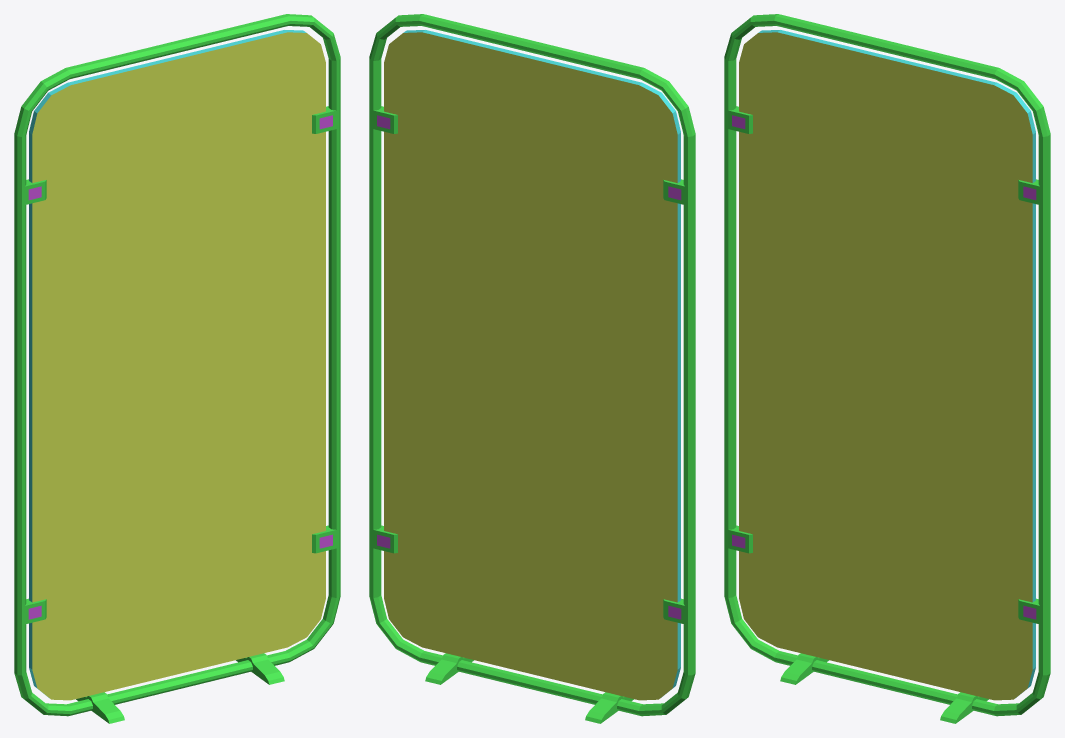
Rendered from Partition_Wall_02_A.fbx.
The picture shows the model from 3 angles, left to right: view 1: azimuth 30°, elevation 25°; view 2: azimuth 150°, elevation 25°; view 3: azimuth 330°, elevation 25°; orthographic projection.
Parts seen in each view (by area): view 1: Partition_Wall_02_A; view 2: Partition_Wall_02_A; view 3: Partition_Wall_02_A.
Boxes of the visible parts, x1,y1,x2,y2 form: Partition_Wall_02_A: (14,14,340,723); Partition_Wall_02_A: (369,14,695,723); Partition_Wall_02_A: (724,14,1050,723).
Bounding box in the file's own units: 101 × 192 × 21.18.
